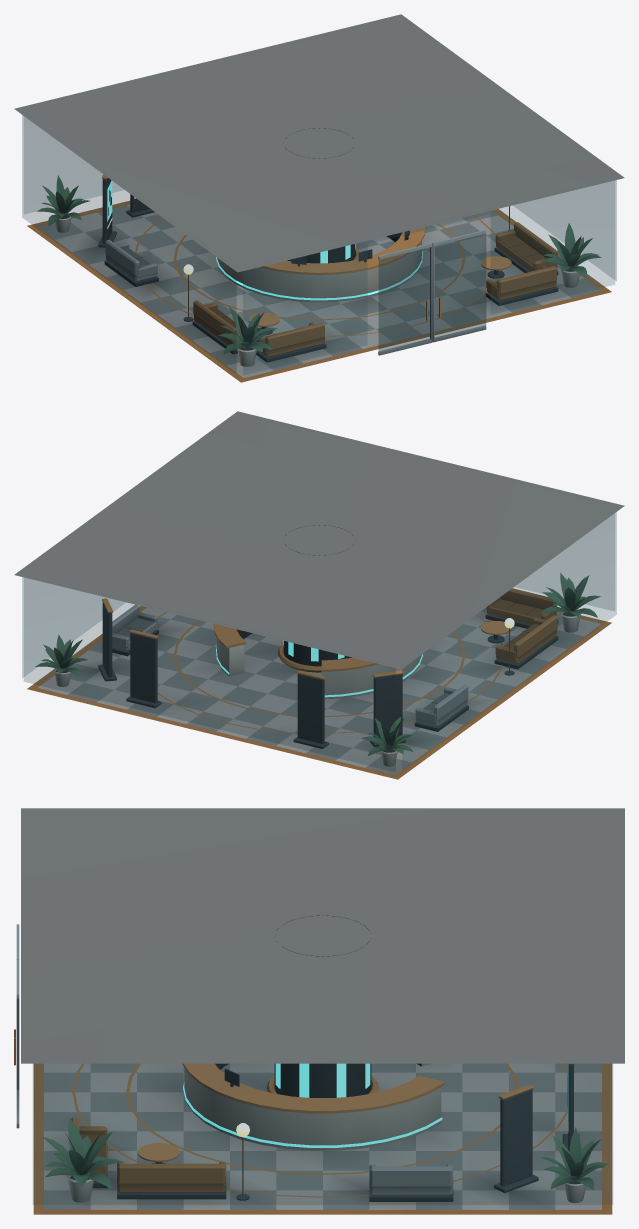
File: lobby-agent.lod0.glb
The picture shows the model from 3 angles, top to bottom: view 1: azimuth 30°, elevation 25°; view 2: azimuth 150°, elevation 25°; view 3: azimuth 270°, elevation 25°; orthographic projection. The views are drawn at different scales.
Parts seen in each view (by area): view 1: structure, door_0_l, door_0_r, foliage; view 2: structure, foliage; view 3: structure, foliage, door_0_r.
Boxes of the visible parts, box(x1,y1,x2,y2) form: structure: box(14, 14, 624, 382); door_0_l: box(378, 243, 432, 355); door_0_r: box(432, 230, 486, 342); foliage: box(37, 175, 601, 354); structure: box(14, 411, 624, 779); foliage: box(35, 573, 601, 755); structure: box(21, 808, 624, 1214); foliage: box(42, 1118, 608, 1190); door_0_r: box(14, 959, 19, 1128).
Size of the model in its own units: 14.36 by 4.12 by 14.53.
